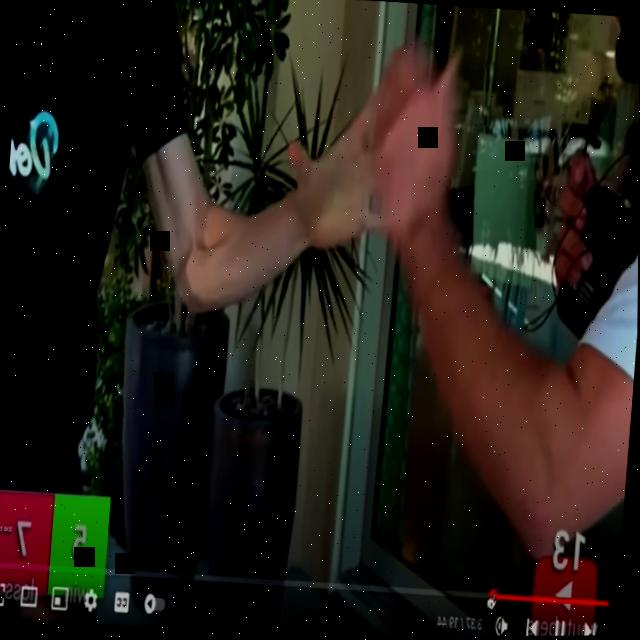Paper: (360, 44, 466, 239), (278, 91, 394, 259)
